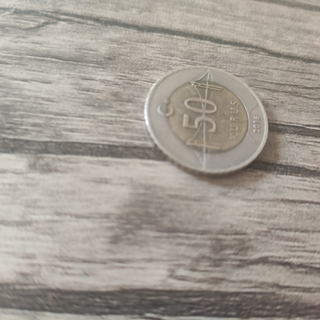50KURUS: (142, 64, 270, 179)
